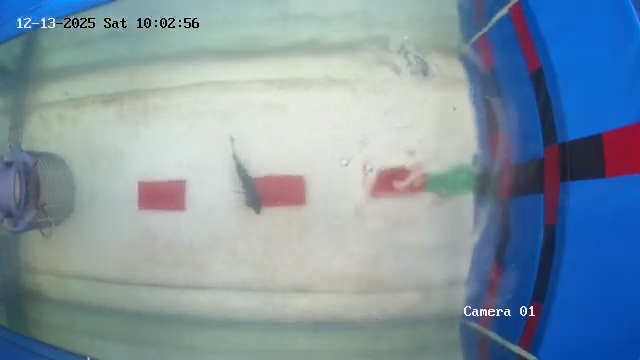fish: (223, 142, 263, 216)
